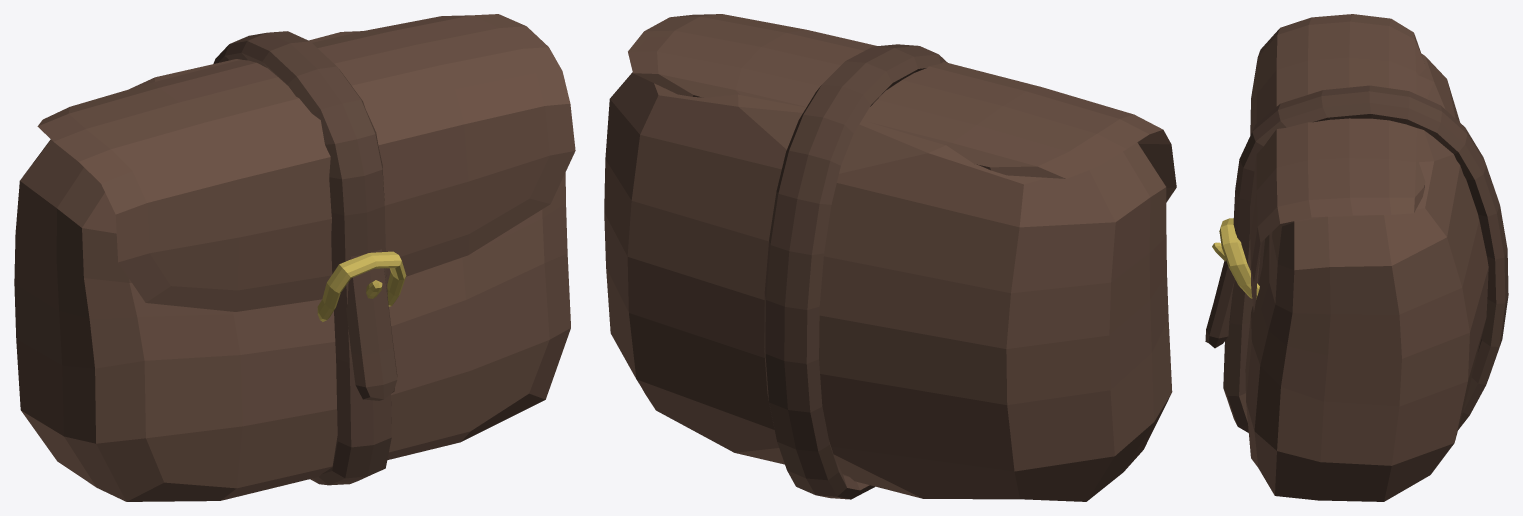
Rendered from Bag.glb.
3 renders of one model, left to right at view 1: azimuth 30°, elevation 25°; view 2: azimuth 150°, elevation 25°; view 3: azimuth 270°, elevation 25°, orthographic. The views are drawn at different scales.
Visible parts, largest first — view 1: Bag; view 2: Bag; view 3: Bag.
Boxes of the visible parts, left/top/right/bottom form: Bag: left=14, top=14, right=575, bottom=501; Bag: left=604, top=14, right=1176, bottom=501; Bag: left=1205, top=14, right=1508, bottom=501.
Bounding box in the file's own units: 0.8017 × 0.6274 × 0.4866.
